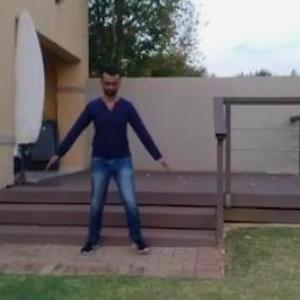land: (42, 68, 161, 264)
